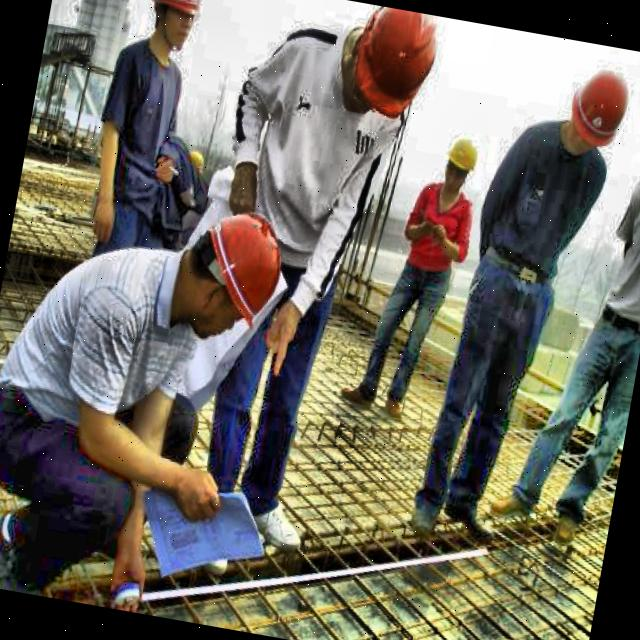helmet: (164, 190, 316, 352), (334, 3, 454, 140), (562, 61, 636, 156), (139, 0, 207, 56), (437, 127, 482, 202)
